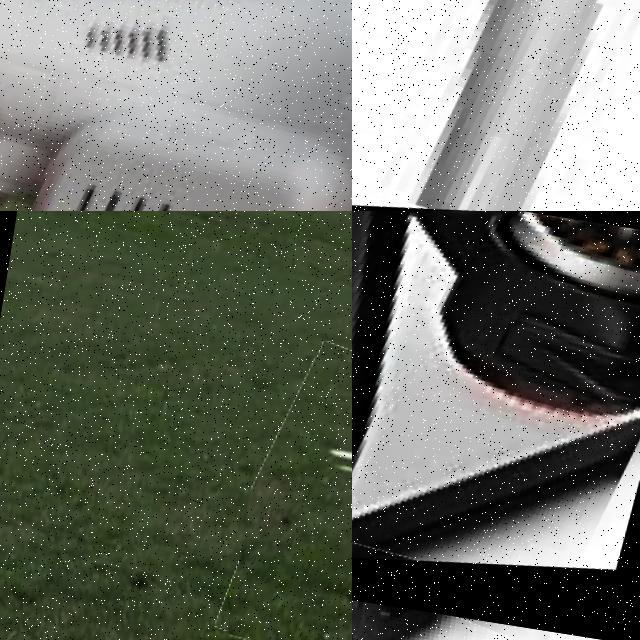0: (0, 0, 352, 211)
drone: (352, 211, 640, 640), (352, 0, 640, 211), (219, 350, 352, 640)
